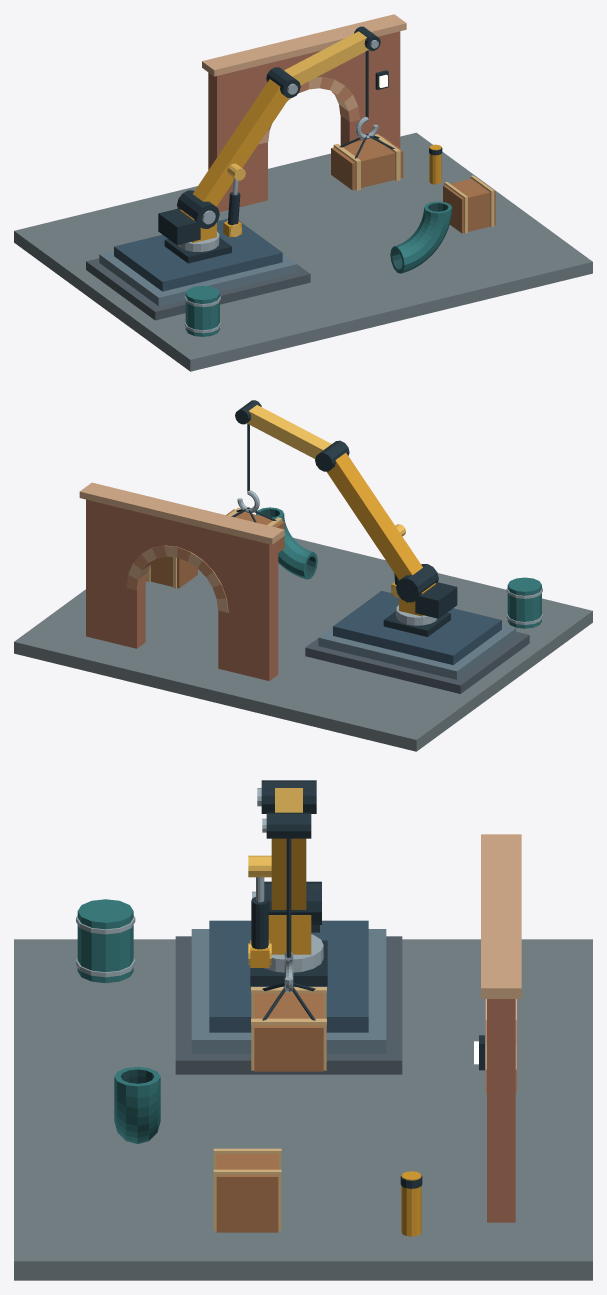
The model's file is crane-courtyard.glb.
3 renders of one model, top to bottom at view 1: azimuth 30°, elevation 25°; view 2: azimuth 150°, elevation 25°; view 3: azimuth 270°, elevation 25°, orthographic. The views are drawn at different scales.
Parts seen in each view (by area): view 1: courtyard.slab, platform.upper, crane.boom.lower, wall.cap, wall.upper-side.left, platform.lower, platform.middle, wall.upper-side.right, crane.load.body, pipe.hollow-elbow, prop.crate.body, wall.pier.left (+7 smaller); view 2: courtyard.slab, platform.upper, wall.upper-side.left, wall.cap, crane.boom.lower, wall.pier.left, wall.pier.right, platform.lower, wall.upper-side.right, platform.middle, crane.boom.upper, prop.drum.body (+6 smaller); view 3: courtyard.slab, platform.upper, platform.lower, wall.cap, platform.middle, crane.load.body, prop.crate.body, prop.drum.body, wall.upper-side.right, pipe.hollow-elbow, wall.pier.right, crane.boom.lower (+10 smaller).
Boxes of the visible parts, x1,y1,x2,y2 form: courtyard.slab: [14, 132, 592, 371]; platform.upper: [114, 219, 282, 291]; crane.boom.lower: [193, 79, 288, 206]; wall.cap: [202, 14, 406, 76]; wall.upper-side.left: [208, 66, 257, 153]; platform.lower: [86, 258, 310, 320]; platform.middle: [99, 251, 297, 306]; wall.upper-side.right: [359, 31, 400, 119]; crane.load.body: [331, 136, 403, 190]; pipe.hollow-elbow: [390, 201, 452, 273]; prop.crate.body: [443, 177, 495, 233]; wall.pier.left: [208, 142, 267, 212]; courtyard.slab: [14, 537, 592, 751]; platform.upper: [333, 591, 501, 664]; wall.upper-side.left: [228, 534, 278, 622]; wall.cap: [79, 482, 284, 544]; crane.boom.lower: [327, 453, 422, 580]; wall.pier.left: [218, 610, 278, 680]; wall.pier.right: [86, 578, 145, 648]; platform.lower: [305, 632, 529, 693]; wall.upper-side.right: [86, 499, 126, 587]; platform.middle: [318, 624, 516, 679]; crane.boom.upper: [247, 405, 331, 458]; prop.drum.body: [507, 577, 541, 628]; courtyard.slab: [14, 939, 592, 1280]; platform.upper: [209, 920, 368, 1032]; platform.lower: [175, 936, 402, 1074]; wall.cap: [481, 834, 521, 998]; platform.middle: [191, 929, 386, 1053]; crane.load.body: [254, 993, 323, 1071]; prop.crate.body: [216, 1154, 278, 1232]; prop.drum.body: [77, 899, 133, 983]; wall.upper-side.right: [487, 999, 515, 1126]; pipe.hollow-elbow: [114, 1067, 160, 1143]; wall.pier.right: [487, 1126, 515, 1222]; crane.boom.lower: [271, 838, 306, 909].
Bounding box in the file's own units: 7.9 × 4.04 × 6.
